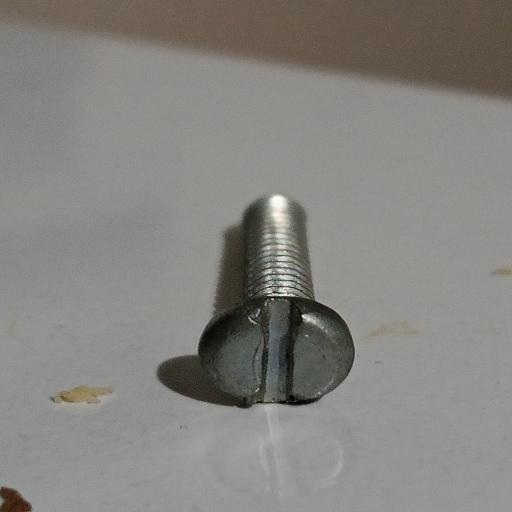Slotted: (191, 293, 358, 425)
